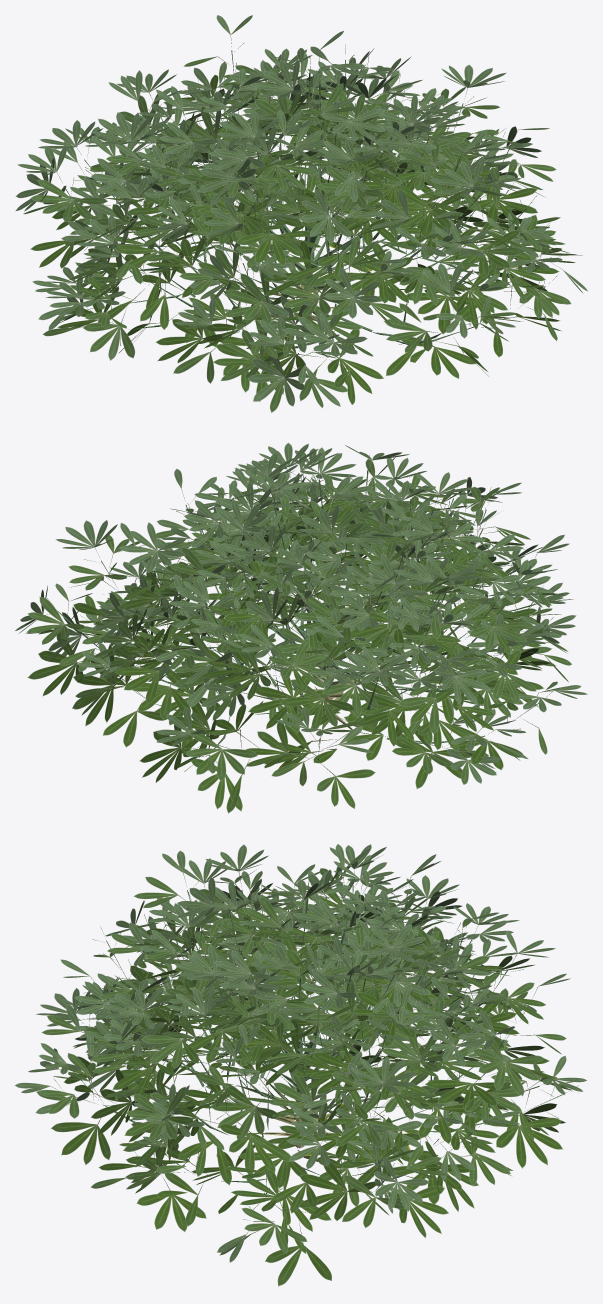
Rendered from lupine0.glb.
3 views of the same model, one above another, from view 1: azimuth 30°, elevation 25°; view 2: azimuth 150°, elevation 25°; view 3: azimuth 270°, elevation 25° (orthographic). The views are drawn at different scales.
Visible parts, largest first — view 1: Lupinus_arboreus_HD_Lupinus arb leaflet 5_0, Lupinus_arboreus_HD_Lupinus arb leaflet 4_0, Lupinus_arboreus_HD_Lupinus arb leaflet 3_0, Lupinus_arboreus_HD_Lupinus arb leaflet 2_0, Lupinus_arboreus_HD_Lupinus arbo branch_0, Lupinus_arboreus_HD_Lupinus arb leaflet 1_0, Lupinus_arboreus_HD_Lupin arb lf stk 1_0, Lupinus_arboreus_HD_Lupin arb lf stk 2_0, Lupinus_arboreus_HD_Lupin arb lf stk 5_0; view 2: Lupinus_arboreus_HD_Lupinus arb leaflet 5_0, Lupinus_arboreus_HD_Lupinus arb leaflet 4_0, Lupinus_arboreus_HD_Lupinus arb leaflet 3_0, Lupinus_arboreus_HD_Lupinus arb leaflet 2_0, Lupinus_arboreus_HD_Lupinus arb leaflet 1_0, Lupinus_arboreus_HD_Lupinus arbo branch_0, Lupinus_arboreus_HD_Lupin arb lf stk 1_0, Lupinus_arboreus_HD_Lupin arb lf stk 2_0, Lupinus_arboreus_HD_Lupin arb lf stk 3_0; view 3: Lupinus_arboreus_HD_Lupinus arb leaflet 5_0, Lupinus_arboreus_HD_Lupinus arb leaflet 4_0, Lupinus_arboreus_HD_Lupinus arb leaflet 3_0, Lupinus_arboreus_HD_Lupinus arb leaflet 2_0, Lupinus_arboreus_HD_Lupinus arb leaflet 1_0, Lupinus_arboreus_HD_Lupinus arbo branch_0, Lupinus_arboreus_HD_Lupin arb lf stk 1_0, Lupinus_arboreus_HD_Lupin arb lf stk 5_0.
Part boxes in pixels (x1,y1,x2,y2): Lupinus_arboreus_HD_Lupinus arb leaflet 5_0: [15, 15, 587, 406]; Lupinus_arboreus_HD_Lupinus arb leaflet 4_0: [23, 56, 582, 412]; Lupinus_arboreus_HD_Lupinus arb leaflet 3_0: [43, 82, 569, 401]; Lupinus_arboreus_HD_Lupinus arb leaflet 2_0: [30, 75, 561, 404]; Lupinus_arboreus_HD_Lupinus arbo branch_0: [63, 50, 545, 363]; Lupinus_arboreus_HD_Lupinus arb leaflet 1_0: [70, 120, 559, 374]; Lupinus_arboreus_HD_Lupin arb lf stk 1_0: [64, 43, 562, 370]; Lupinus_arboreus_HD_Lupin arb lf stk 2_0: [75, 77, 524, 357]; Lupinus_arboreus_HD_Lupin arb lf stk 5_0: [57, 35, 566, 350]; Lupinus_arboreus_HD_Lupinus arb leaflet 5_0: [15, 442, 587, 783]; Lupinus_arboreus_HD_Lupinus arb leaflet 4_0: [25, 459, 572, 791]; Lupinus_arboreus_HD_Lupinus arb leaflet 3_0: [27, 492, 549, 813]; Lupinus_arboreus_HD_Lupinus arb leaflet 2_0: [38, 497, 544, 811]; Lupinus_arboreus_HD_Lupinus arb leaflet 1_0: [91, 536, 532, 782]; Lupinus_arboreus_HD_Lupinus arbo branch_0: [57, 468, 538, 760]; Lupinus_arboreus_HD_Lupin arb lf stk 1_0: [45, 460, 543, 775]; Lupinus_arboreus_HD_Lupin arb lf stk 2_0: [81, 469, 517, 776]; Lupinus_arboreus_HD_Lupin arb lf stk 3_0: [149, 475, 524, 760]; Lupinus_arboreus_HD_Lupinus arb leaflet 5_0: [14, 844, 587, 1262]; Lupinus_arboreus_HD_Lupinus arb leaflet 4_0: [36, 862, 572, 1255]; Lupinus_arboreus_HD_Lupinus arb leaflet 3_0: [51, 883, 571, 1286]; Lupinus_arboreus_HD_Lupinus arb leaflet 2_0: [61, 913, 561, 1280]; Lupinus_arboreus_HD_Lupinus arb leaflet 1_0: [98, 935, 562, 1213]; Lupinus_arboreus_HD_Lupinus arbo branch_0: [67, 885, 562, 1221]; Lupinus_arboreus_HD_Lupin arb lf stk 1_0: [54, 879, 565, 1244]; Lupinus_arboreus_HD_Lupin arb lf stk 5_0: [50, 869, 578, 1220].
Size of the model in its own units: 1.29 by 0.6843 by 1.2.
Materials: 13 (13 with a texture image).
